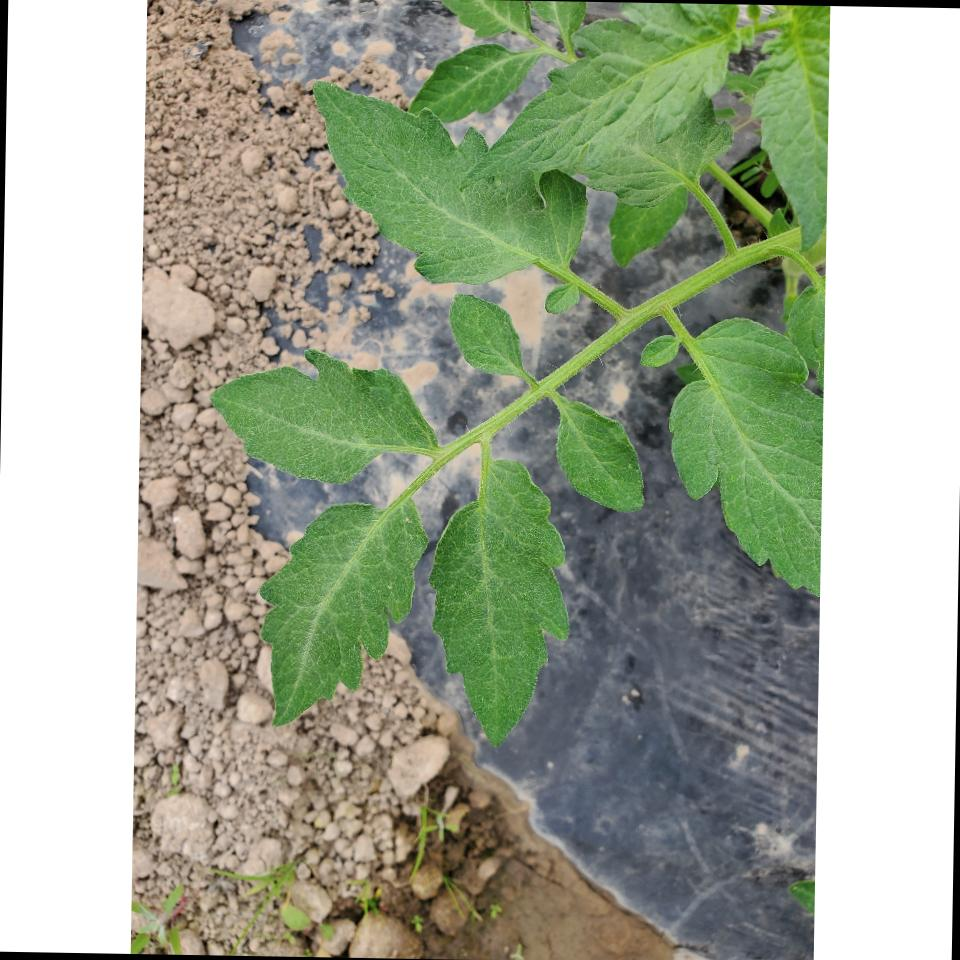tomato_leaves: (466, 0, 776, 181), (310, 84, 591, 274), (664, 313, 825, 600), (430, 453, 570, 752), (256, 497, 425, 726), (210, 346, 436, 488), (550, 406, 647, 513), (413, 40, 537, 118), (447, 293, 532, 379)
